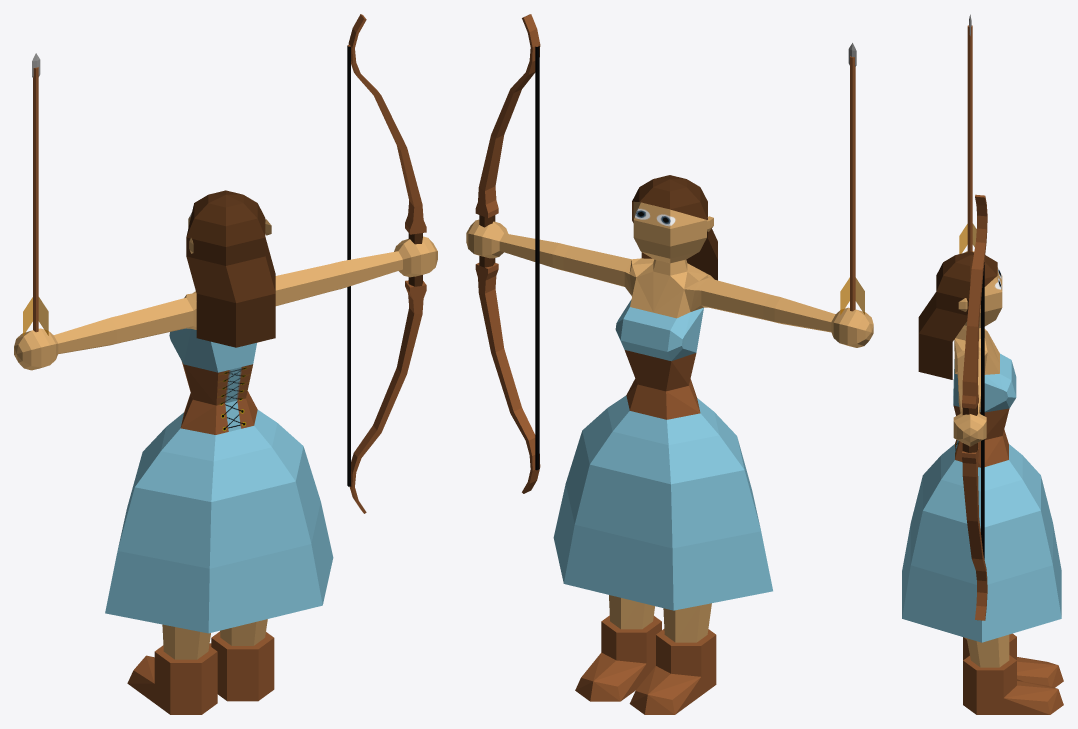
File: Huntress.glb
3 renders of one model, left to right at view 1: azimuth 30°, elevation 25°; view 2: azimuth 150°, elevation 25°; view 3: azimuth 270°, elevation 25°, orthographic. The views are drawn at different scales.
Visible parts, largest first — view 1: Skirt, Body, Hair, Bow, Arrow; view 2: Body, Skirt, Bow, Hair, Arrow; view 3: Skirt, Body, Bow, Hair, Arrow.
Part boxes in pixels (x1=…): Skirt: x1=105, y1=410, x2=333, y2=633; Body: x1=14, y1=212, x2=437, y2=714; Hair: x1=186, y1=190, x2=275, y2=347; Bow: x1=347, y1=14, x2=426, y2=513; Arrow: x1=23, y1=53, x2=48, y2=335; Body: x1=466, y1=201, x2=873, y2=714; Skirt: x1=553, y1=395, x2=772, y2=610; Bow: x1=475, y1=14, x2=540, y2=493; Hair: x1=632, y1=175, x2=717, y2=280; Arrow: x1=840, y1=43, x2=864, y2=314; Skirt: x1=902, y1=444, x2=1061, y2=642; Body: x1=953, y1=251, x2=1063, y2=714; Bow: x1=962, y1=194, x2=987, y2=620; Hair: x1=918, y1=251, x2=997, y2=379; Arrow: x1=959, y1=14, x2=976, y2=253.
Bounding box in the file's own units: 1.56 × 2.48 × 0.6066.
10 materials, 2 textured.
